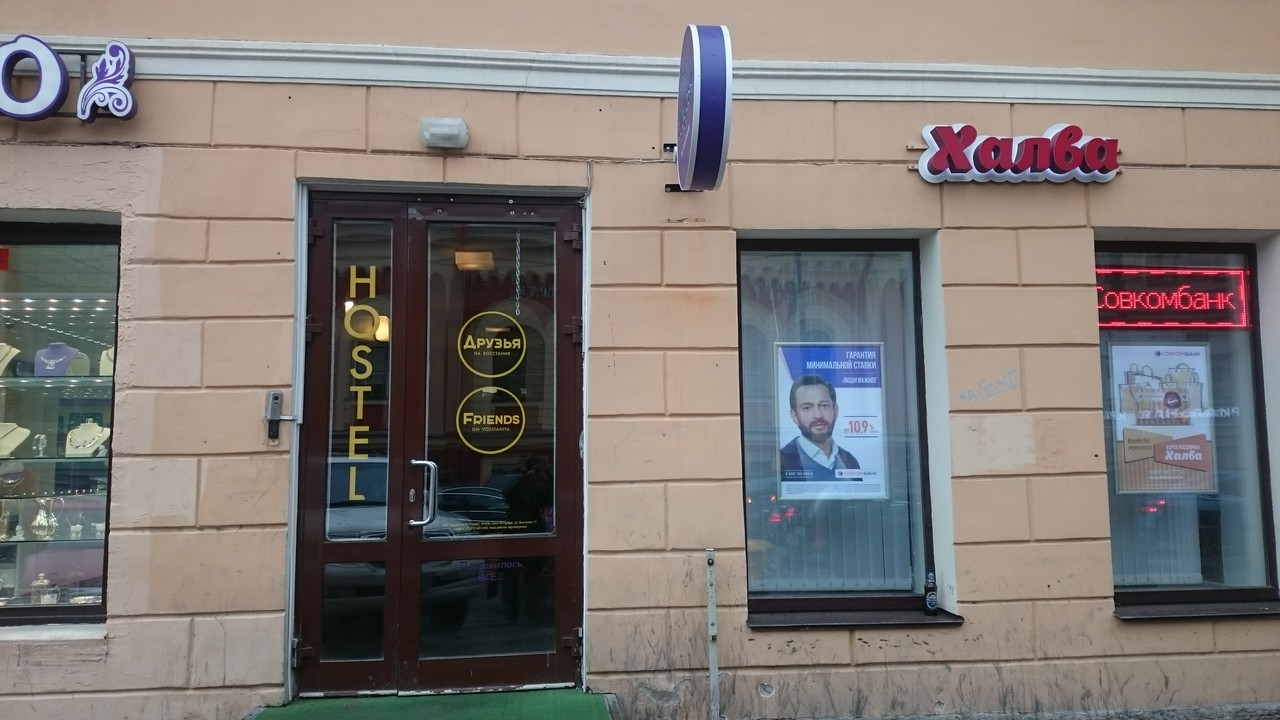cantilever: (658, 18, 738, 202)
door: (403, 198, 573, 688)
signboard: (920, 121, 1123, 187)
window: (741, 237, 927, 626), (1093, 237, 1274, 600), (297, 200, 397, 692), (1, 241, 114, 623)
